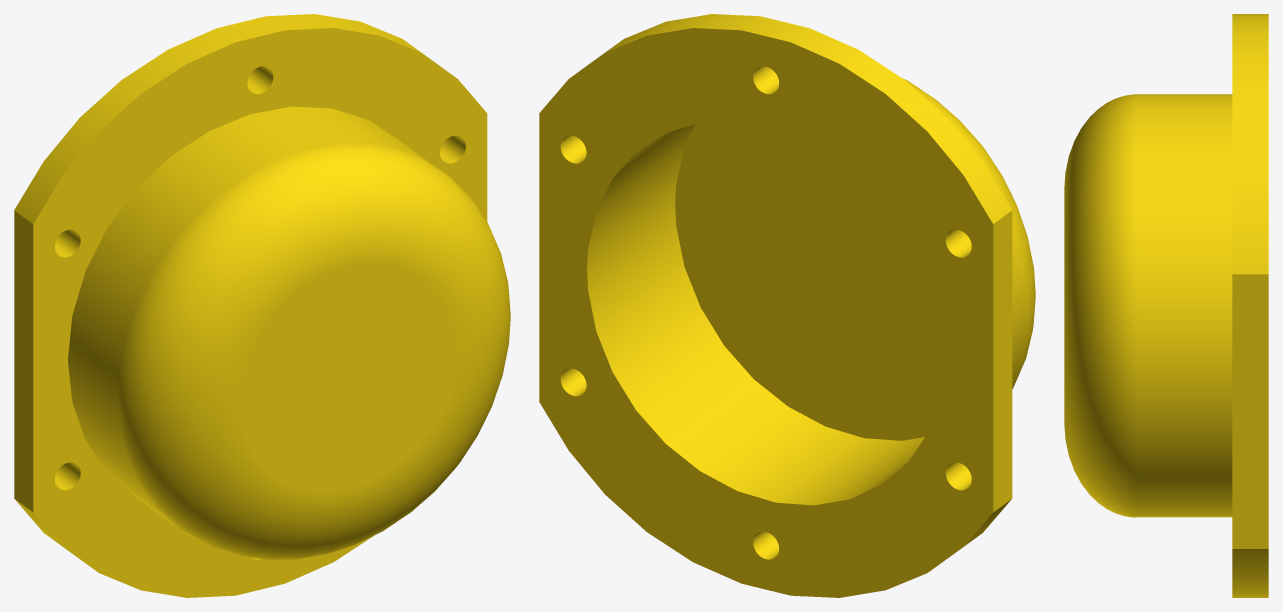
3 views of the same model, side by side, from view 1: azimuth 30°, elevation 25°; view 2: azimuth 150°, elevation 25°; view 3: azimuth 270°, elevation 25° (orthographic). The views are drawn at different scales.
Parts seen in each view (by area): view 1: mesh53933, mesh53931, mesh53934, mesh53932, mesh53922, mesh53924; view 2: mesh53920, mesh53918, mesh53919, mesh53922, mesh53924, mesh53933, mesh53932; view 3: mesh53932, mesh53933, mesh53923, mesh53922, mesh53921.
Part boxes in pixels (x1,y1,x2,y2): mesh53933: [117, 143, 510, 559]; mesh53931: [33, 28, 487, 597]; mesh53934: [242, 263, 454, 491]; mesh53932: [68, 106, 439, 525]; mesh53922: [14, 14, 440, 223]; mesh53924: [14, 210, 33, 511]; mesh53920: [539, 28, 993, 597]; mesh53918: [675, 121, 945, 440]; mesh53919: [587, 124, 924, 505]; mesh53922: [590, 14, 1011, 223]; mesh53924: [993, 210, 1012, 511]; mesh53933: [901, 77, 1035, 388]; mesh53932: [1012, 229, 1027, 381]; mesh53932: [1137, 94, 1232, 517]; mesh53933: [1064, 94, 1137, 517]; mesh53923: [1232, 274, 1268, 548]; mesh53922: [1232, 14, 1268, 274]; mesh53921: [1232, 549, 1268, 597].
Size of the model in its own units: 0.0869 by 0.1012 by 0.0356.
